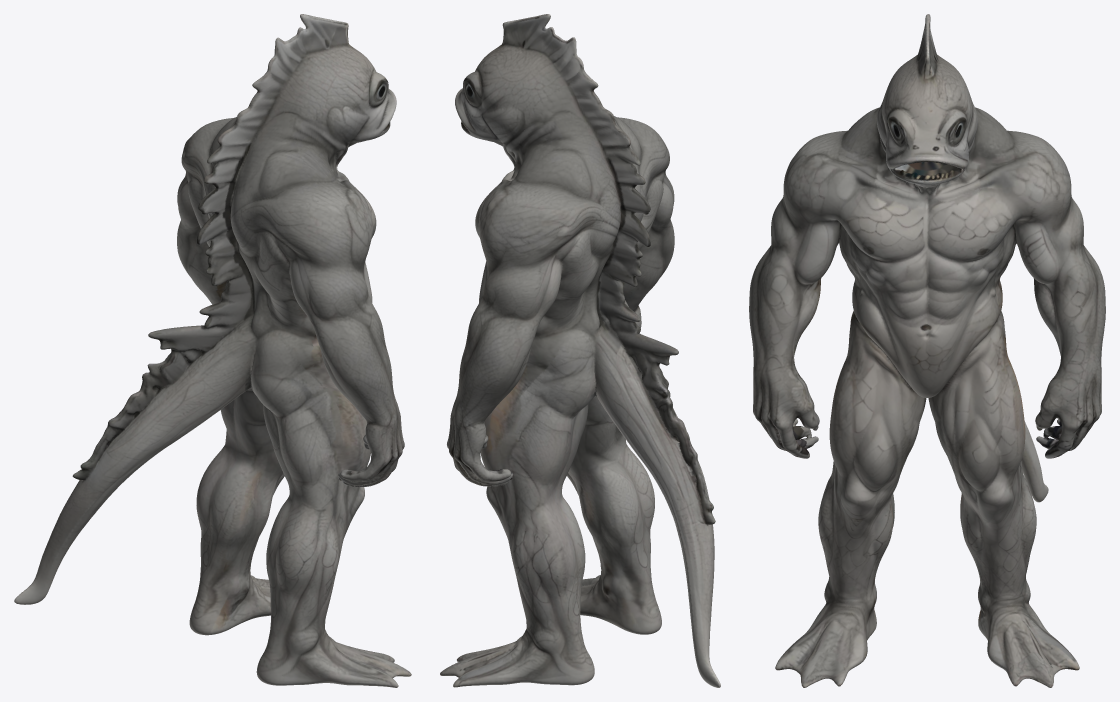
Rendered from asset.glb.
The picture shows the model from 3 angles, left to right: view 1: azimuth 30°, elevation 25°; view 2: azimuth 150°, elevation 25°; view 3: azimuth 270°, elevation 25°; orthographic projection. The views are drawn at different scales.
Parts seen in each view (by area): view 1: tripo_node_43a85396-90ba-47d0-8035-8be711a5658b; view 2: tripo_node_43a85396-90ba-47d0-8035-8be711a5658b; view 3: tripo_node_43a85396-90ba-47d0-8035-8be711a5658b.
Boxes of the visible parts, <box> form: tripo_node_43a85396-90ba-47d0-8035-8be711a5658b: <box>14,14,411,687</box>; tripo_node_43a85396-90ba-47d0-8035-8be711a5658b: <box>440,14,720,687</box>; tripo_node_43a85396-90ba-47d0-8035-8be711a5658b: <box>749,14,1105,687</box>.
Bounding box in the file's own units: 0.5296 × 1 × 0.4978.
1 material, 1 textured.
